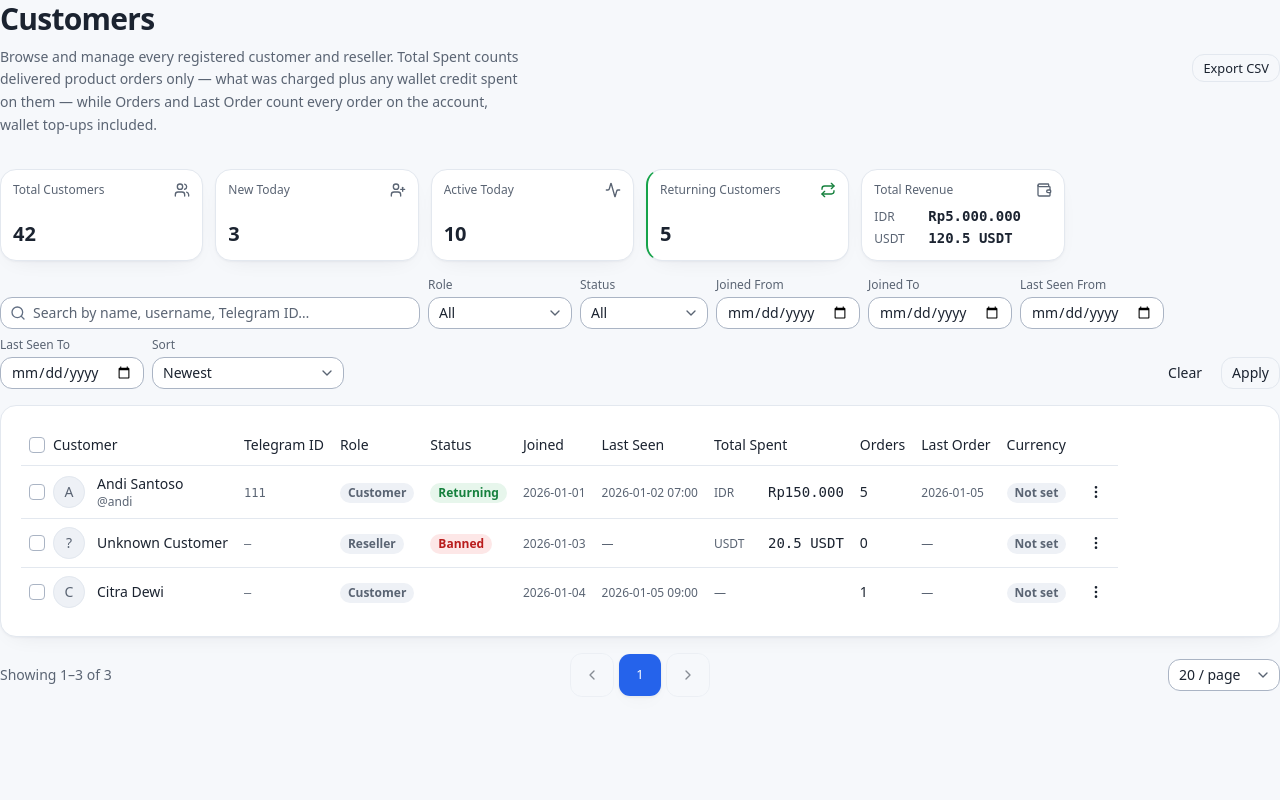
Test: UsersPage › Suspend opens a confirm dialog and, on confirm, posts to /api/users/:id/ban and shows a success toast
expect the text "Andi Santoso" is shown: met, box x1=97 y1=474 x2=183 y2=494
Click the button named "actions for andi santoso": (1096, 492) x1=1082 y1=478 x2=1110 y2=506
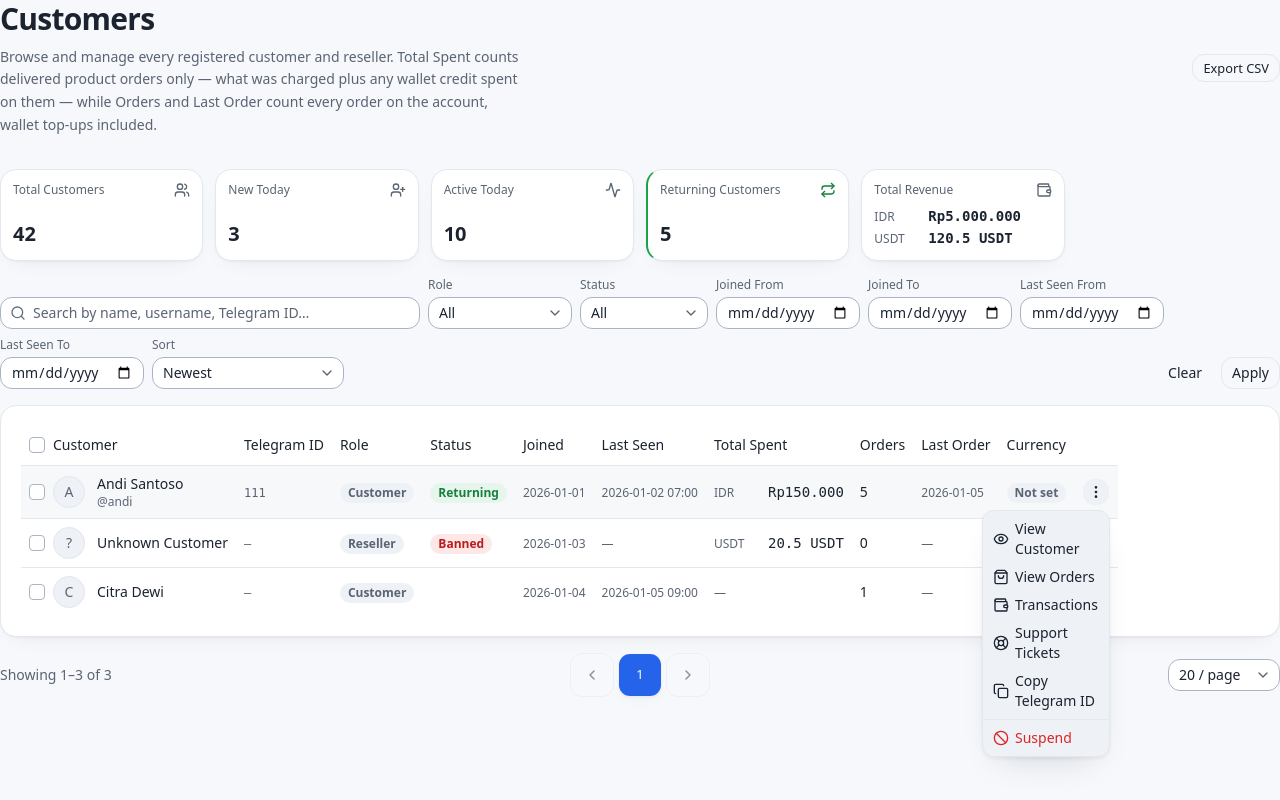
Click the menu item "Suspend": (1032, 738) x1=993 y1=728 x2=1072 y2=747
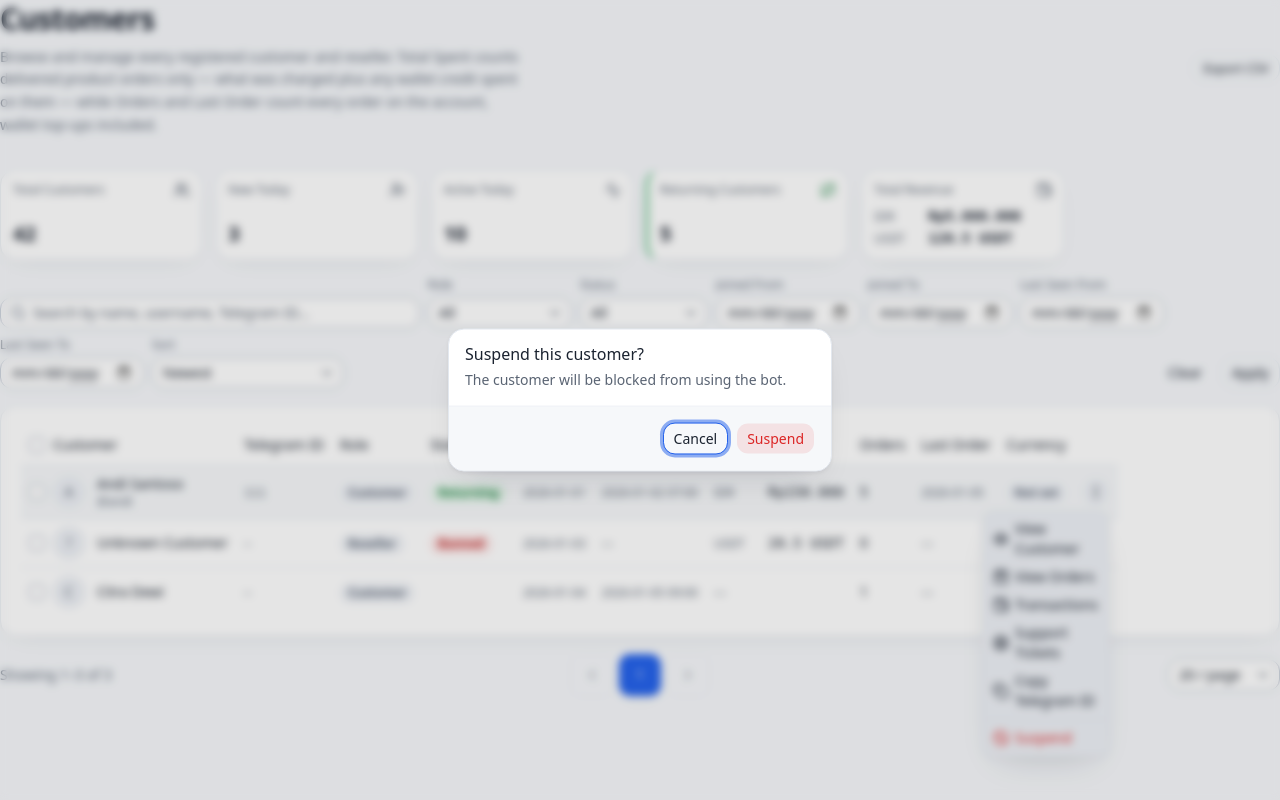
expect the heading "Suspend this customer?" is shown: met, box x1=465 y1=342 x2=644 y2=364
Click the button "Suspend": (776, 438) x1=736 y1=422 x2=815 y2=454
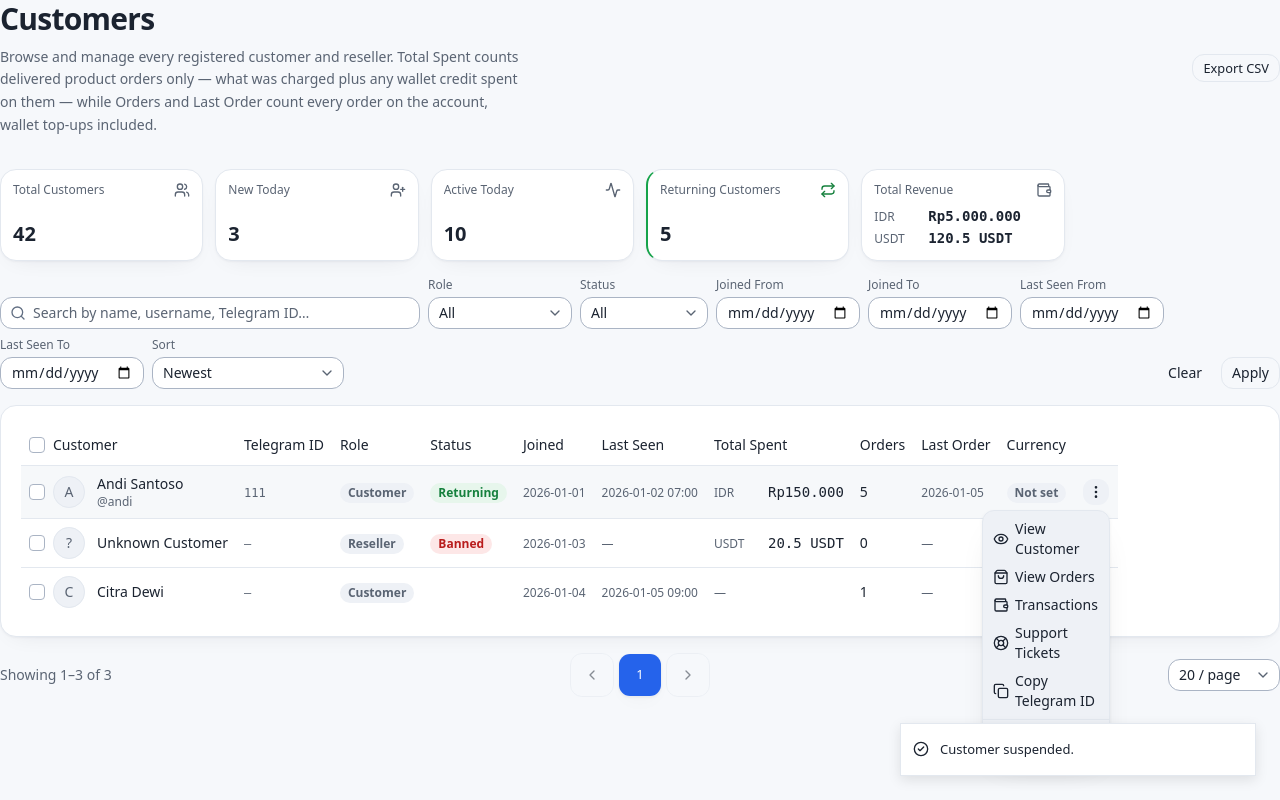
expect the text "Customer suspended." is shown: met, box x1=940 y1=740 x2=1074 y2=759
